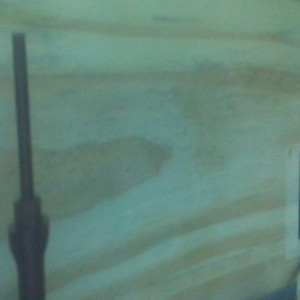obeng: (5, 31, 51, 300)
